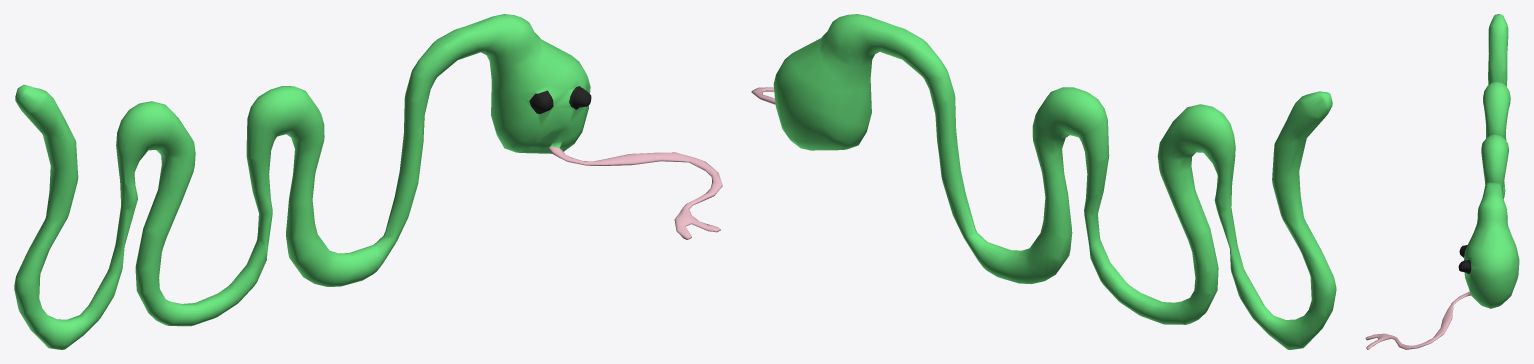
File: snakey-1.glb
The picture shows the model from 3 angles, left to right: view 1: azimuth 30°, elevation 25°; view 2: azimuth 150°, elevation 25°; view 3: azimuth 270°, elevation 25°; orthographic projection. The views are drawn at different scales.
Parts seen in each view (by area): view 1: snakey; view 2: snakey; view 3: snakey.
Boxes of the visible parts, x1,y1,x2,y2 form: snakey: (14, 14, 722, 349); snakey: (751, 14, 1336, 349); snakey: (1365, 14, 1519, 349).
Size of the model in its own units: 10.83 by 4.43 by 3.4.
